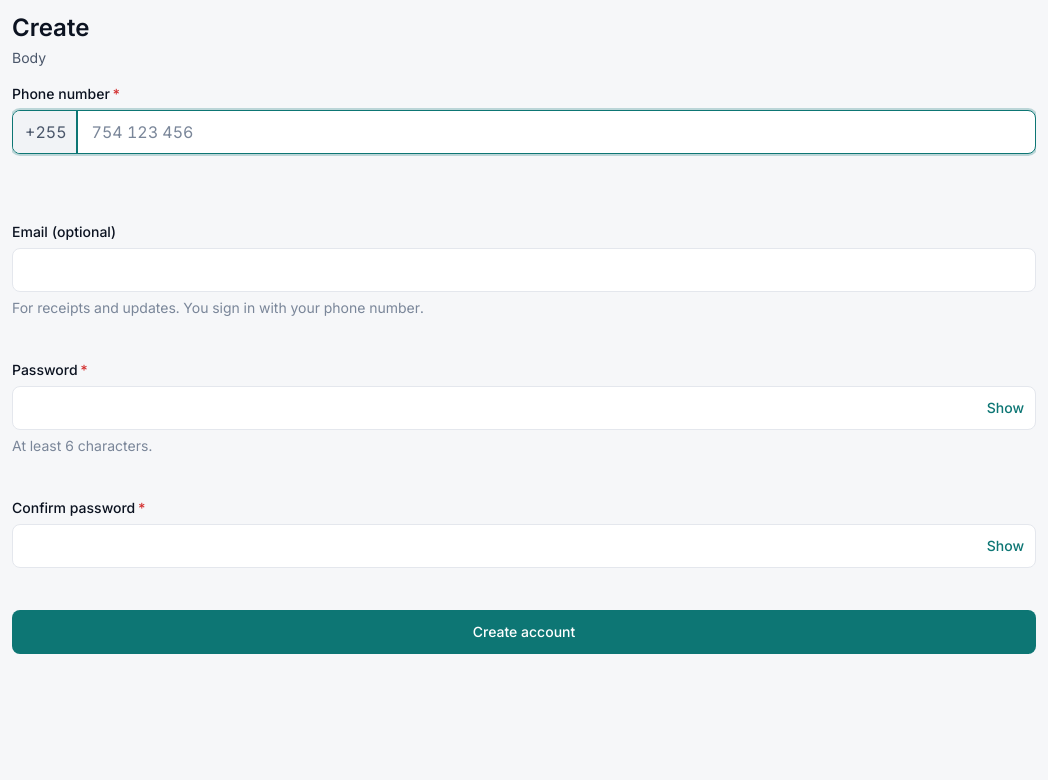
Test case: <PhoneSignup> › refuses a malformed email but accepts none
Type "not-an-email" into the field labelled "Email (optional)" at (524, 270), box [12,248,1036,292]
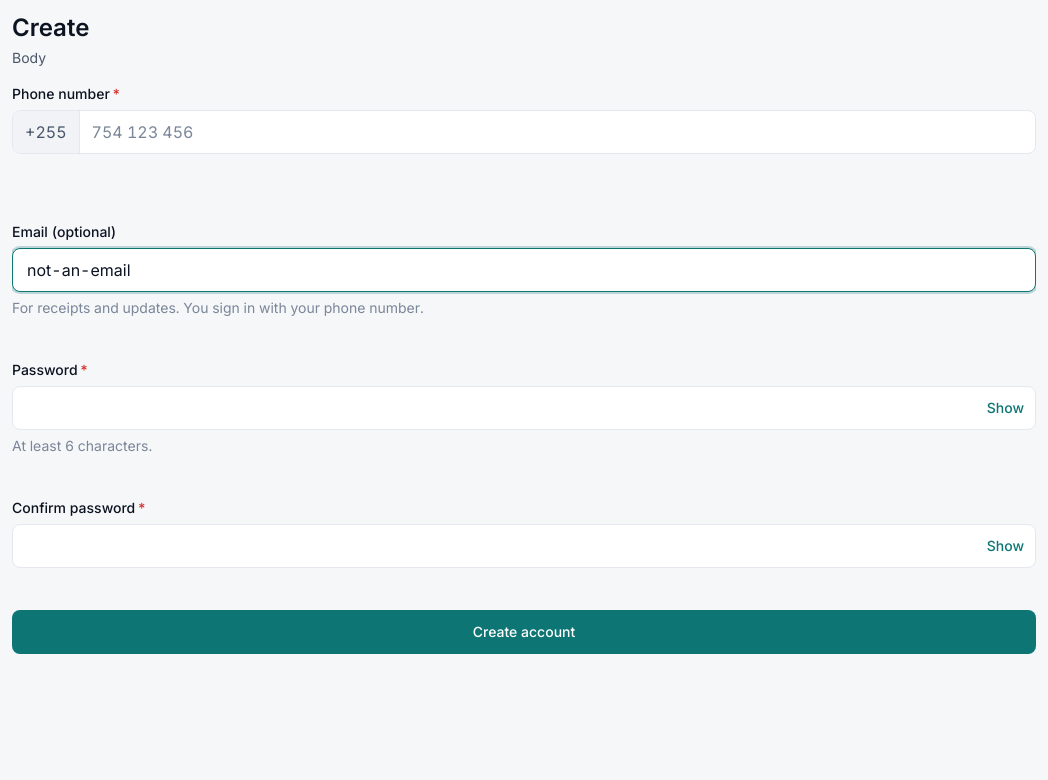
Type "763594105" into the field labelled "Phone number*" at (557, 132), box [80,111,1035,153]
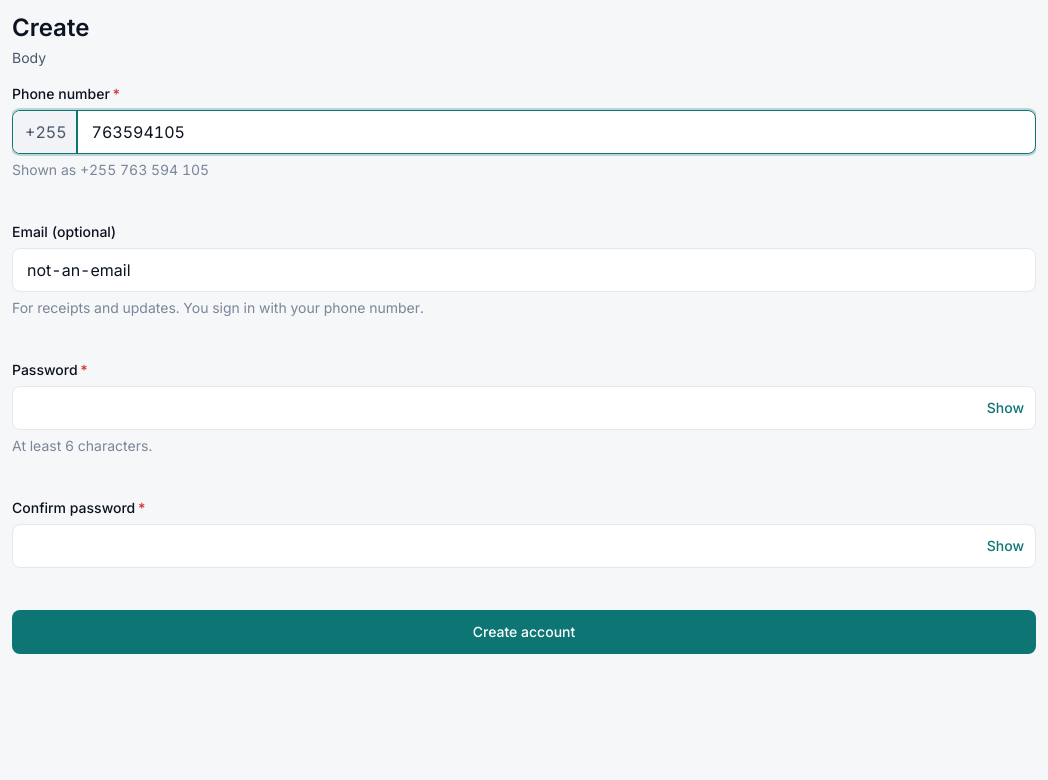
Type "siri123" into the password field labelled "Password*" at (524, 408), box [12,386,1036,430]
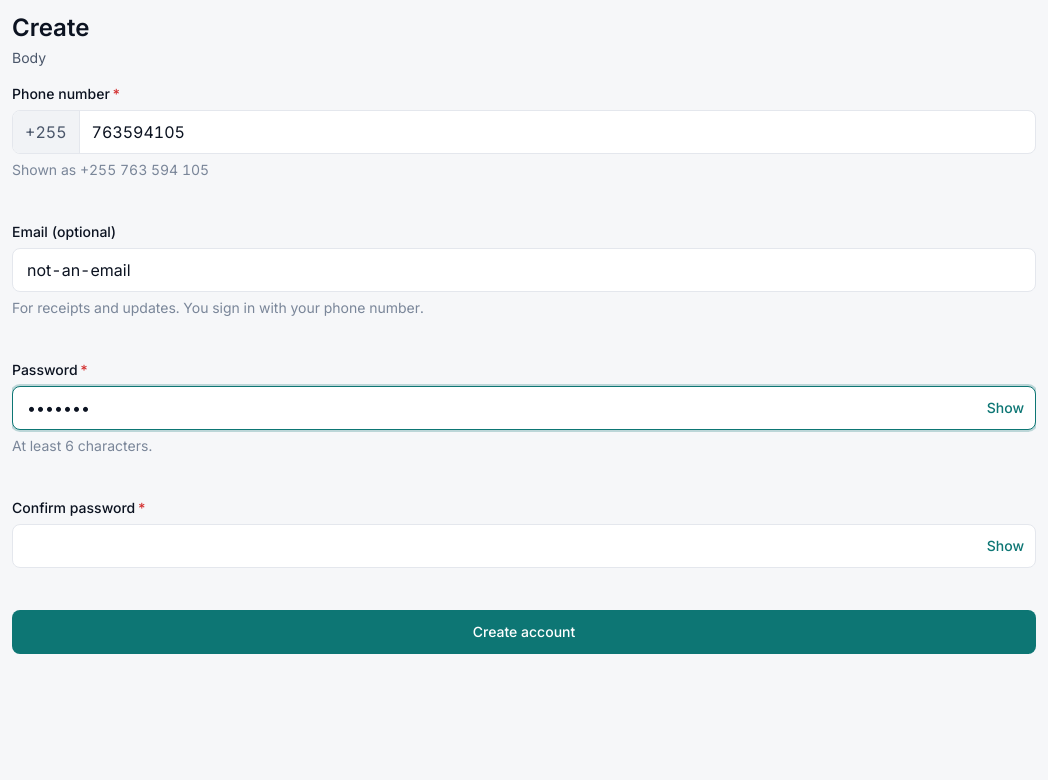
Type "siri123" into the password field labelled "Confirm password*" at (524, 546), box [12,524,1036,568]
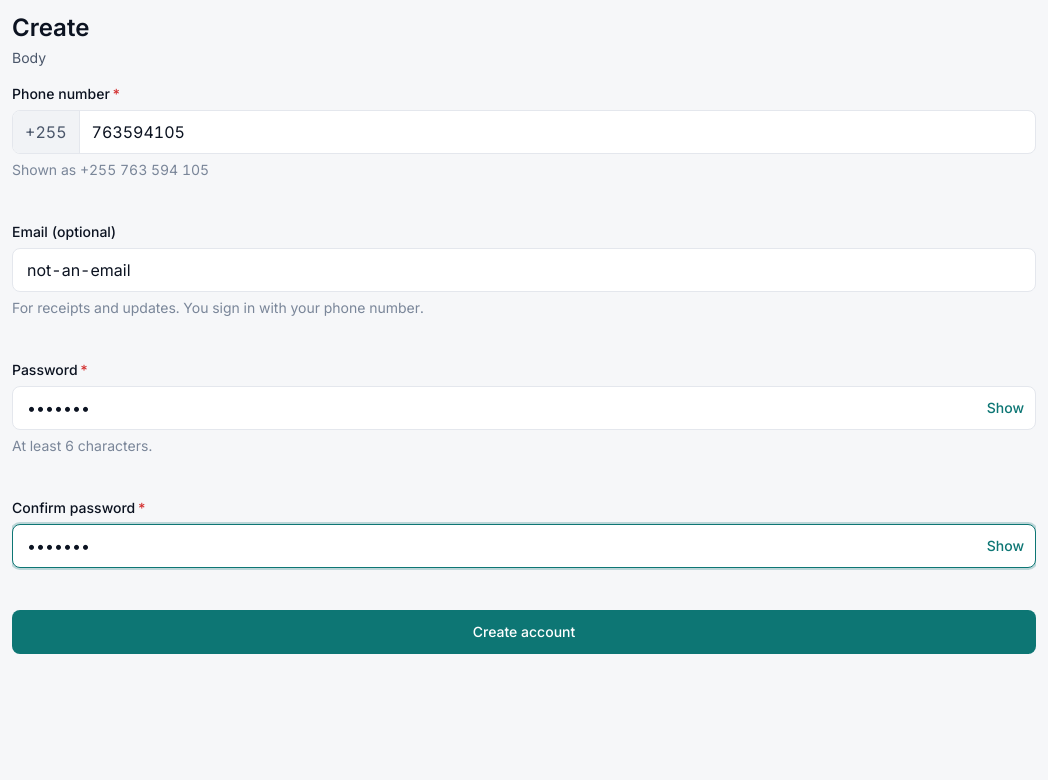
Click the button "Create account" at (524, 632), box [12,610,1036,654]
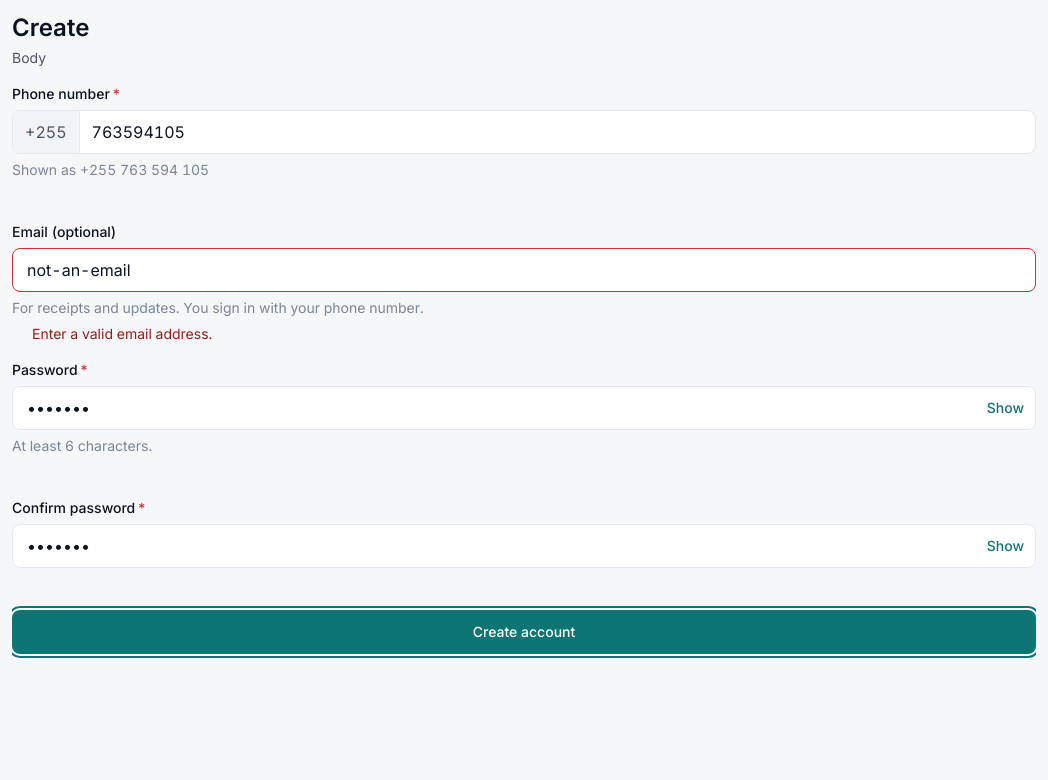
Check: the text "Enter a valid email address." is shown, box [32,324,212,344]
